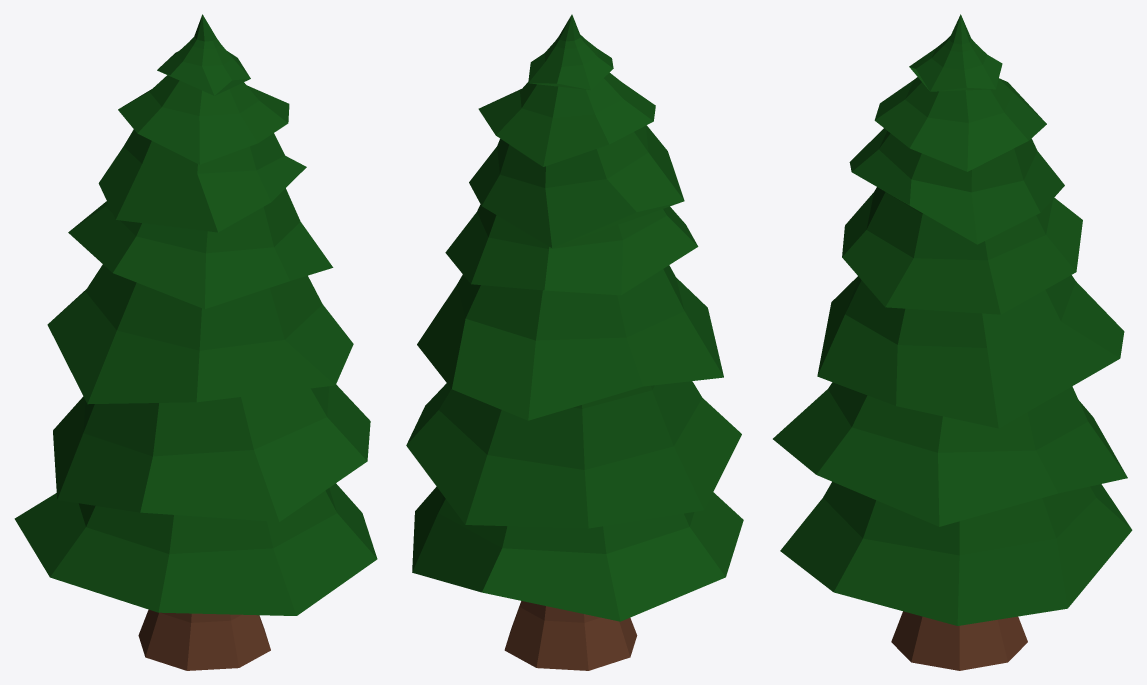
Rendered from fir.glb.
3 views of the same model, side by side, from view 1: azimuth 30°, elevation 25°; view 2: azimuth 150°, elevation 25°; view 3: azimuth 270°, elevation 25° (orthographic).
Parts seen in each view (by area): view 1: Fir; view 2: Fir; view 3: Fir.
Part boxes in pixels (box(x1,y1,x2,y2)): Fir: box(14, 14, 377, 670); Fir: box(406, 14, 743, 670); Fir: box(773, 14, 1132, 670).
Bounding box in the file's own units: 5.24 × 10.1 × 5.26.
